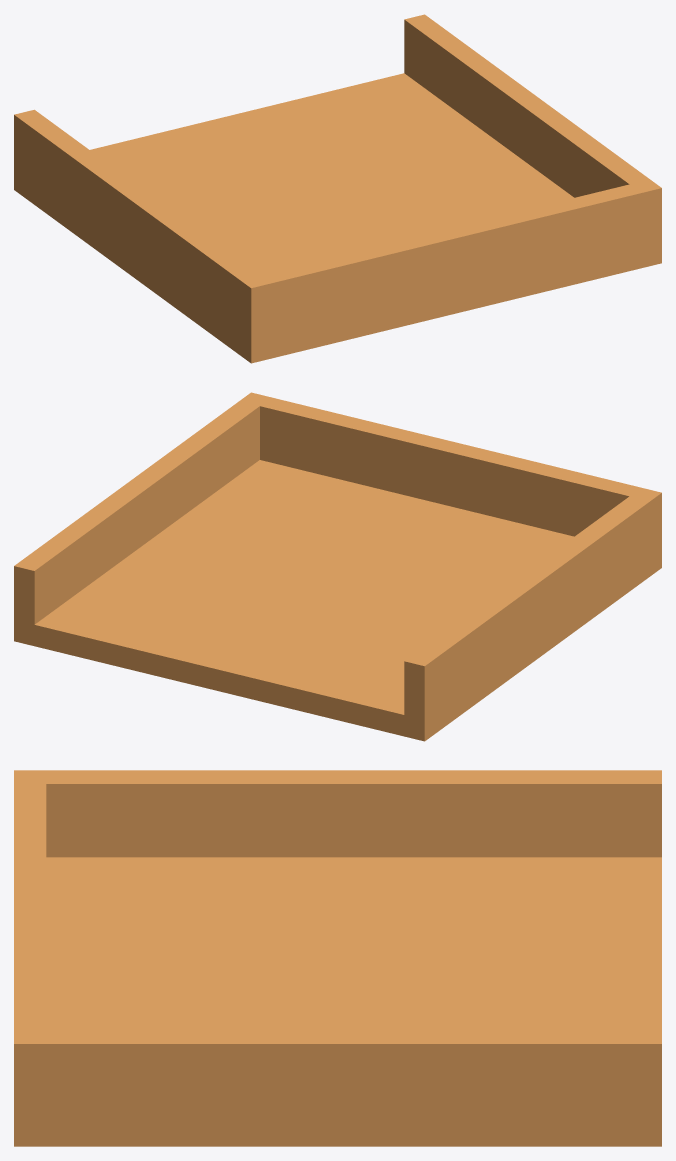
The model's file is YellowRoof_3Edges.glb.
3 renders of one model, top to bottom at view 1: azimuth 30°, elevation 25°; view 2: azimuth 150°, elevation 25°; view 3: azimuth 270°, elevation 25°, orthographic. The views are drawn at different scales.
Parts seen in each view (by area): view 1: roof_flat_3Edges_yellow; view 2: roof_flat_3Edges_yellow; view 3: roof_flat_3Edges_yellow.
Part boxes in pixels (<box>): roof_flat_3Edges_yellow: <box>14,14,661,363</box>; roof_flat_3Edges_yellow: <box>14,392,661,741</box>; roof_flat_3Edges_yellow: <box>14,770,661,1146</box>.
Size of what is drawn, in the model's own units: 4 by 0.7 by 4.
Materials: 1 (1 with a texture image).
